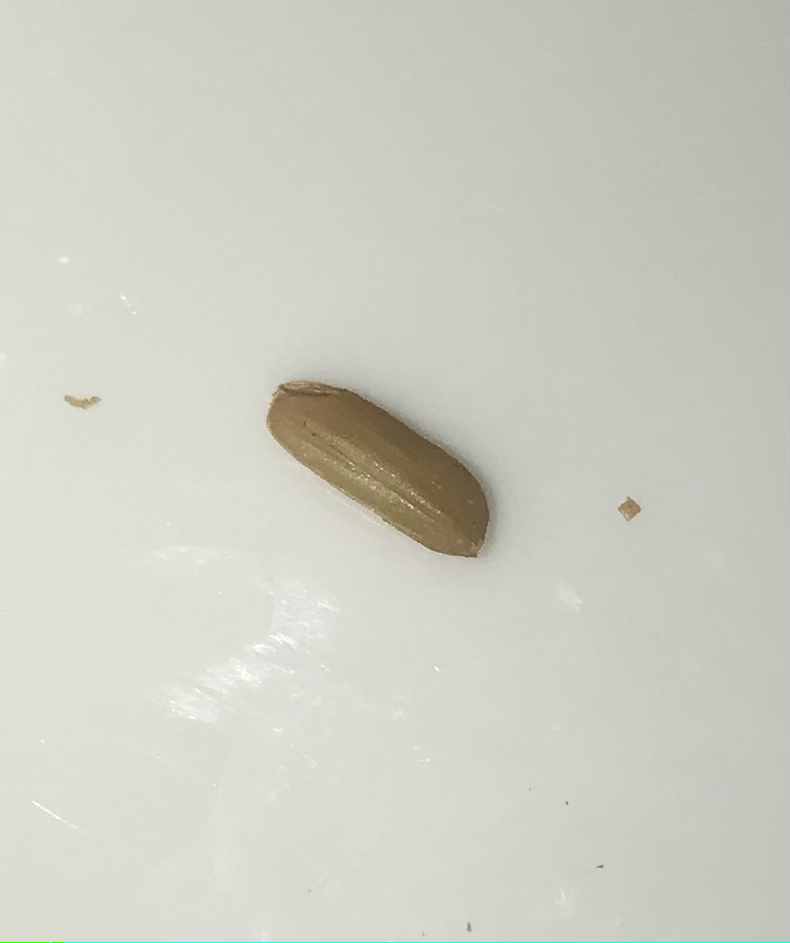Gao Lut Dien Bien: (264, 358, 496, 571)
